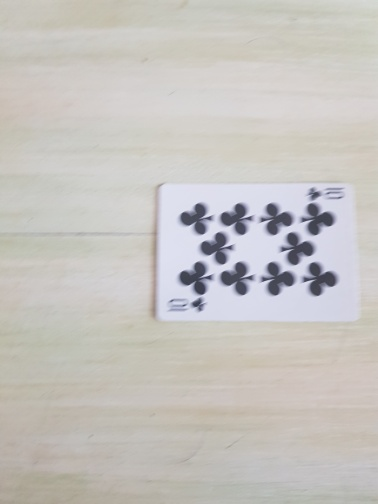ten: (155, 181, 364, 325)
